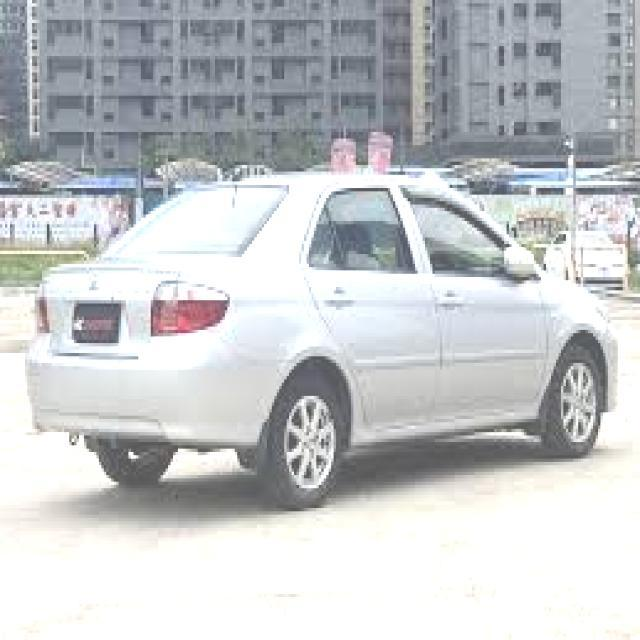ToyotaVios: (24, 169, 619, 509)
